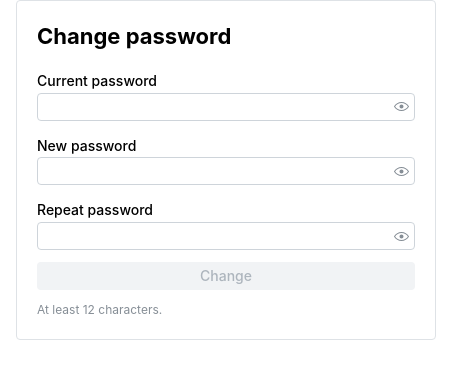
ChangePasswordPage: застаріла помилка під полем › після виправлення нового пароля повідомлення «закороткий» зникає
This screenshot has width=453, height=376.
Type "OldPassword1" into the password field labelled "Current password" at (226,107), box [38,94,414,120]
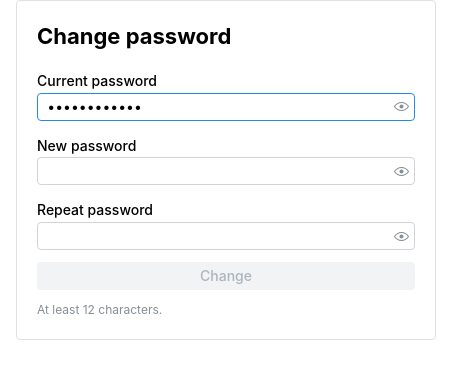
Type "short" into the password field labelled "New password" at (226,171), box [38,158,414,184]
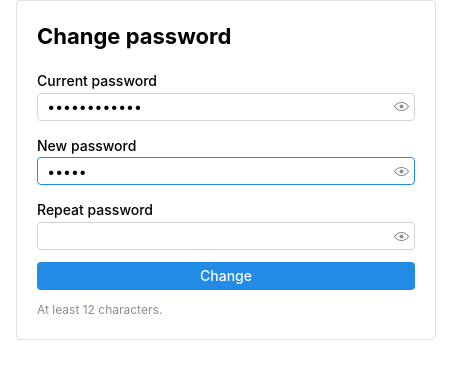
Type "short" into the password field labelled "Repeat password" at (226,236), box [38,223,414,249]
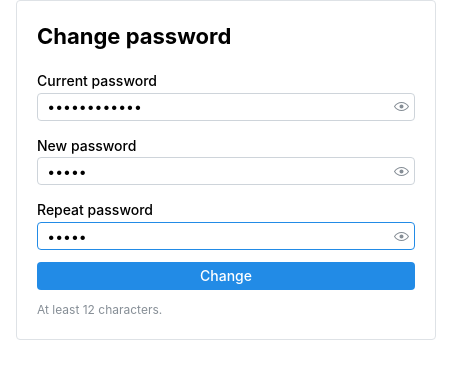
Click the button "Change" at (226,276), box [37,262,415,290]
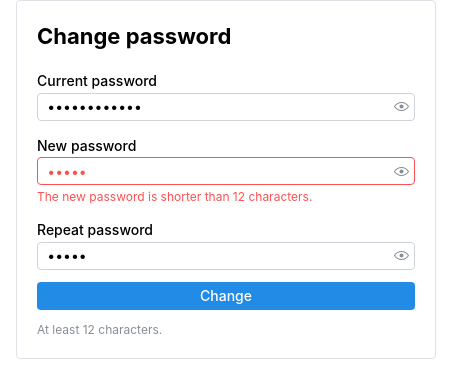
Expected: the text "The new password is shorter than 12 characters." is shown, [37,189,312,204]
Type "LongerPassword1" into the password field labelled "New password" at (226,171), box [38,158,414,184]
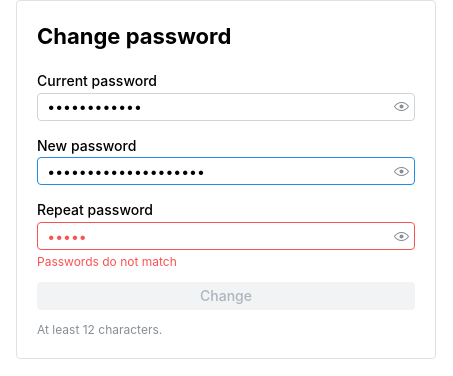
Expected: the text "The new password is shorter than 12 characters." is gone
